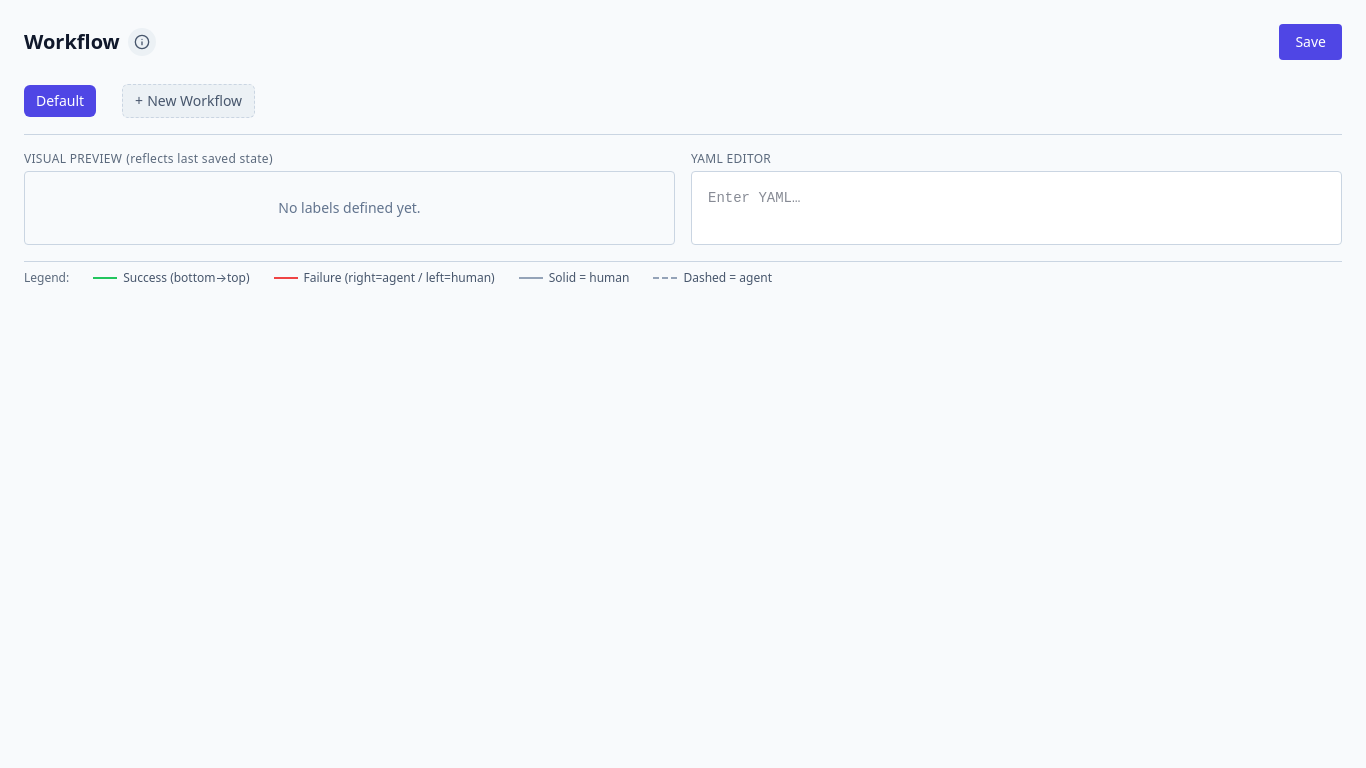
Test: NewWorkflowModal dialog semantics (#350) › closes on Escape (previously had no Escape handling at all)
The image size is (1366, 768).
Click the text "New Workflow".
click(195, 101)  # box [147, 91, 242, 111]
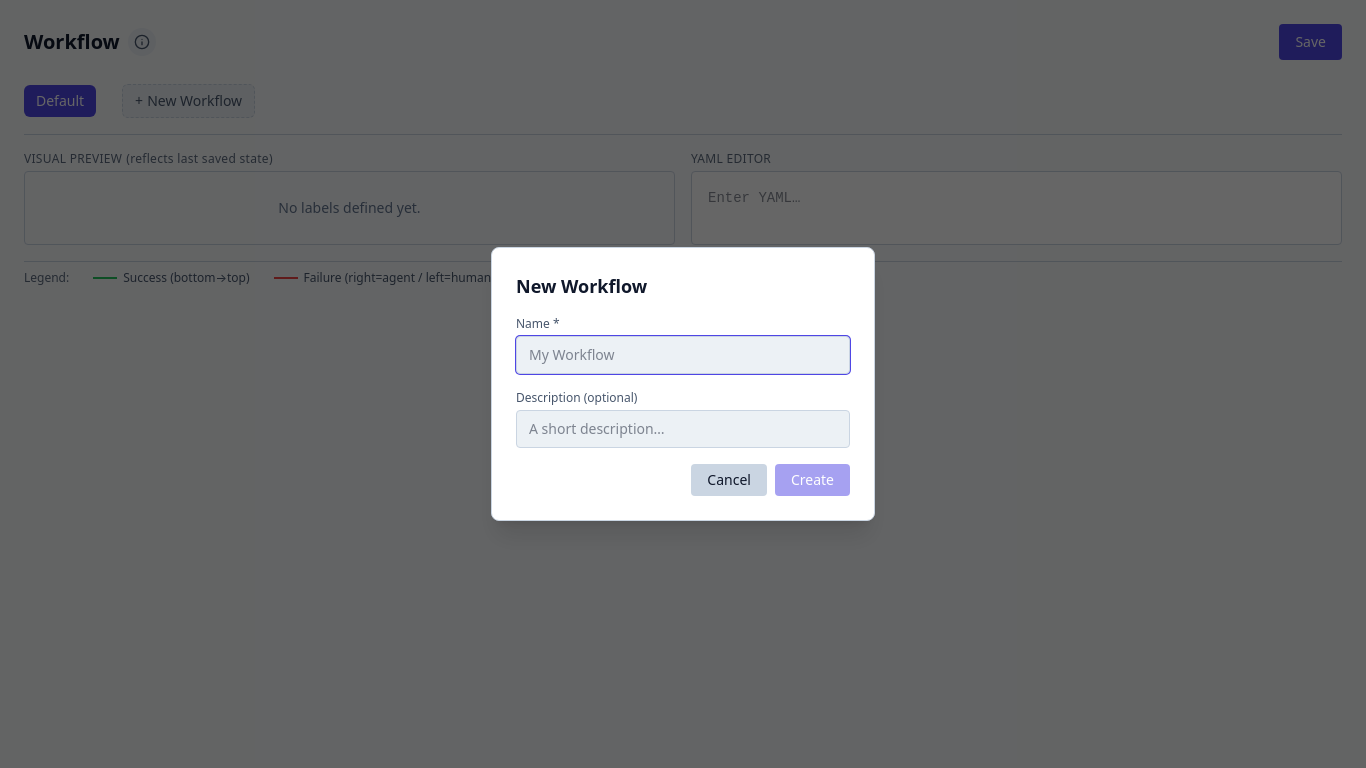
Press Escape
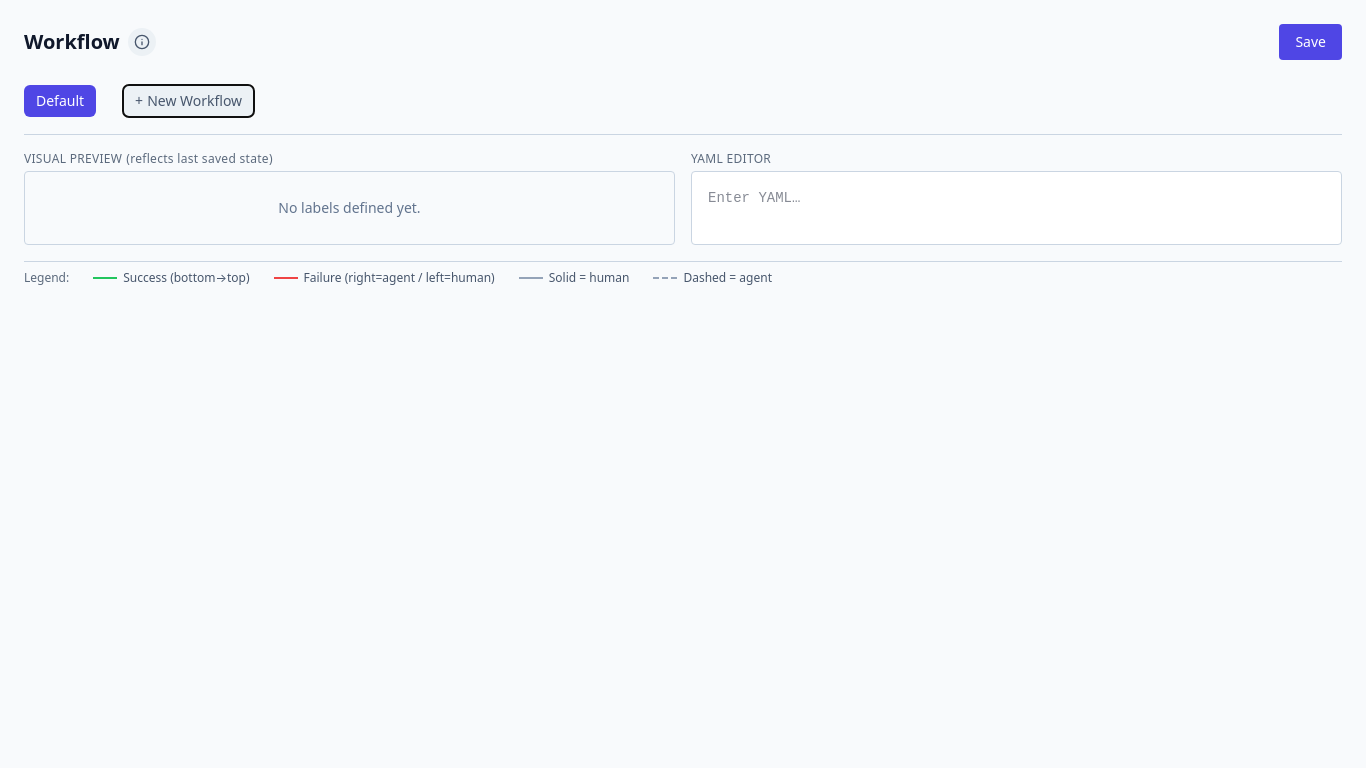
Check: the dialog is gone
